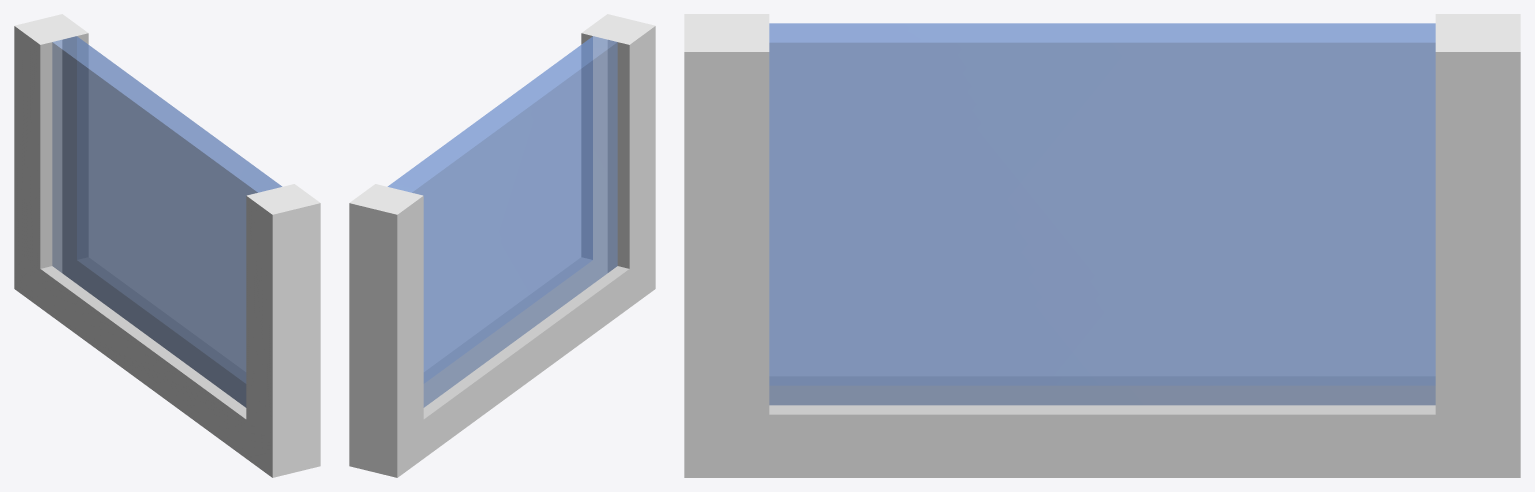
File: window1.fbx
3 renders of one model, left to right at view 1: azimuth 30°, elevation 25°; view 2: azimuth 150°, elevation 25°; view 3: azimuth 270°, elevation 25°, orthographic. The views are drawn at different scales.
Visible parts, largest first — view 1: window2; view 2: window2; view 3: window2.
Part boxes in pixels (box(x1,y1,x2,y2)): window2: box(14, 14, 320, 477); window2: box(349, 14, 655, 477); window2: box(684, 14, 1520, 477).
Size of the model in its own units: 1.44 by 7.49 by 13.32.
Materials: 2 (2 with a texture image).
